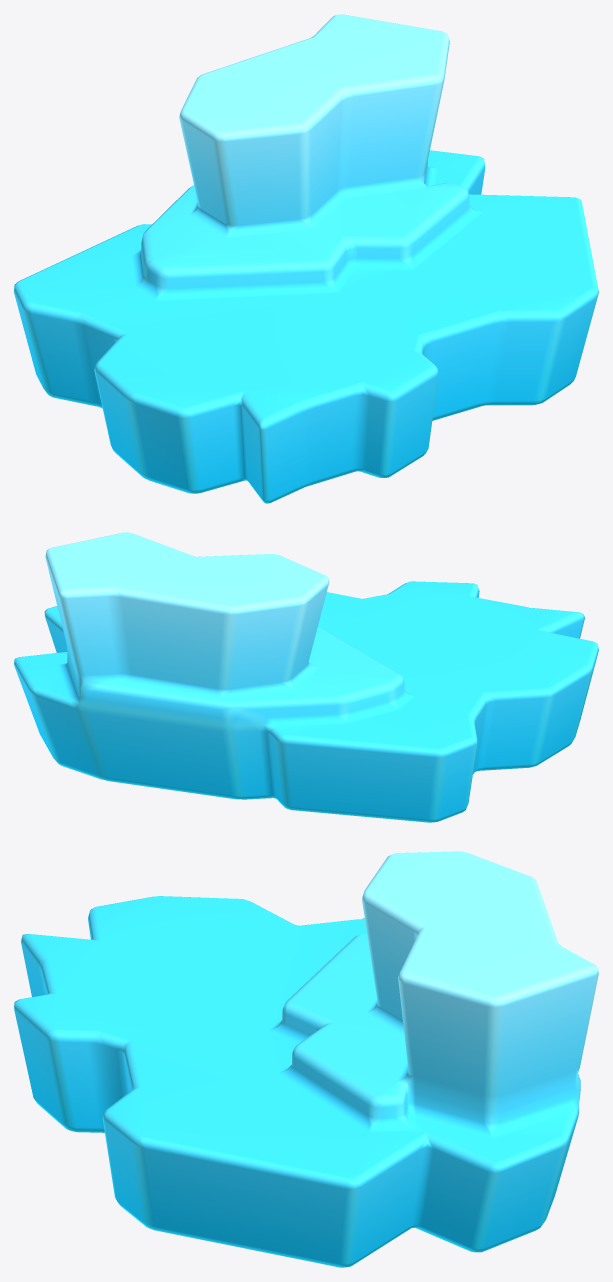
File: ice_004.glb
The picture shows the model from 3 angles, top to bottom: view 1: azimuth 30°, elevation 25°; view 2: azimuth 150°, elevation 25°; view 3: azimuth 270°, elevation 25°; orthographic projection. The views are drawn at different scales.
Visible parts, largest first — view 1: ice_004; view 2: ice_004; view 3: ice_004.
Boxes of the visible parts, left/top/right/bottom form: ice_004: left=14, top=14, right=598, bottom=503; ice_004: left=14, top=532, right=598, bottom=822; ice_004: left=14, top=851, right=598, bottom=1267.
Bounding box in the file's own units: 7.44 × 3.02 × 6.39.
Materials: 1 (1 with a texture image).
